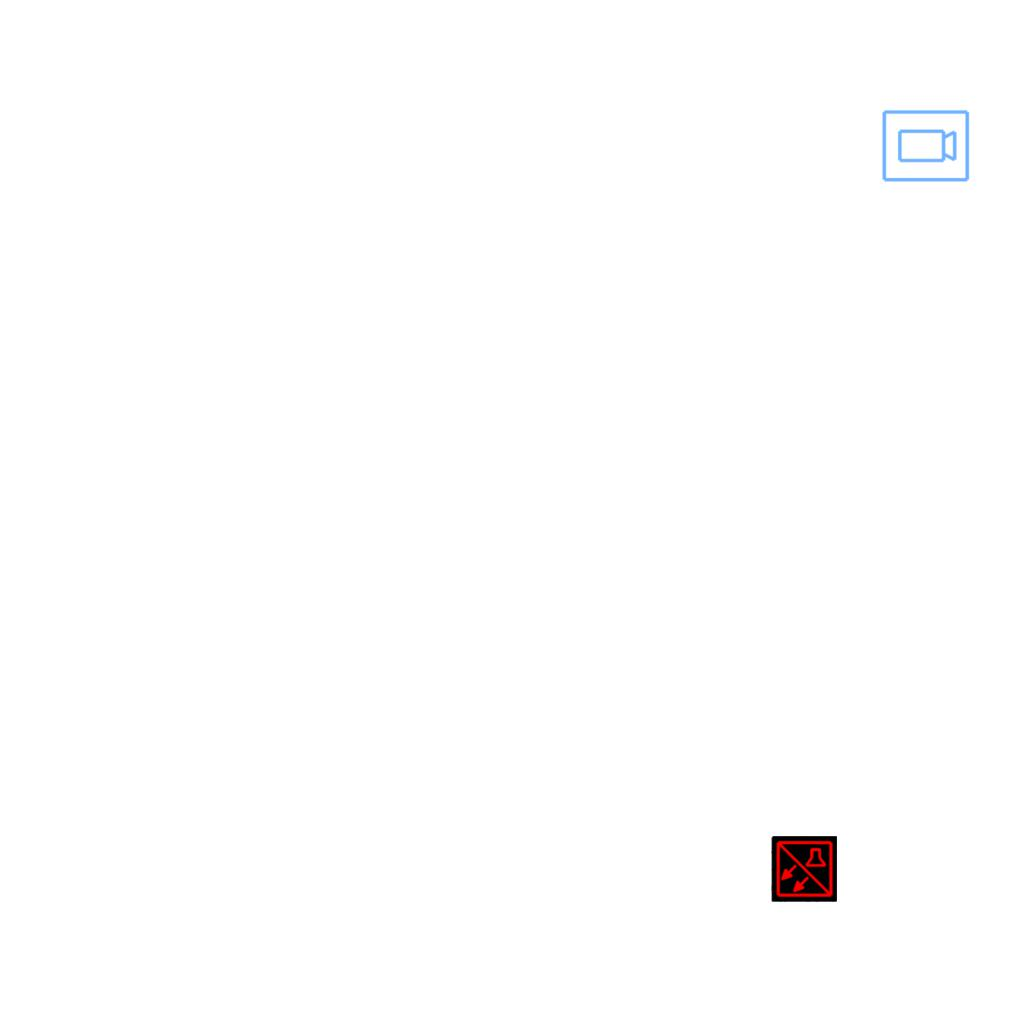KFO_Kamera_mit_Festobjektiv: (880, 108, 971, 185)
OKW_Multisensormelder_(Kombination_optischer_Rauch-Kahlenmonoxid_Waerme-Melder): (771, 836, 837, 902)
